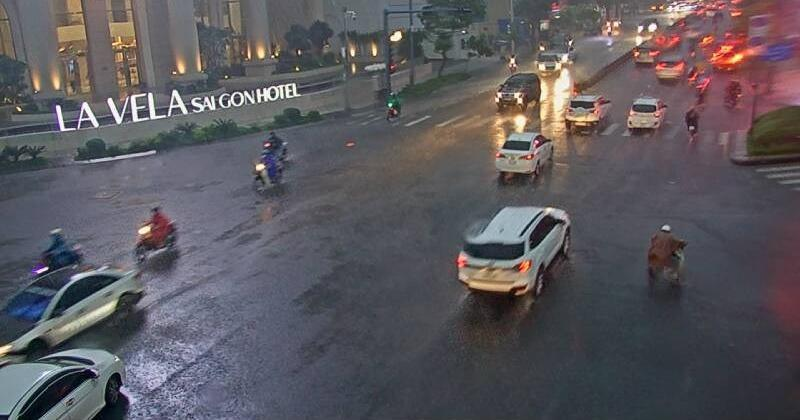xe hoi: (0, 264, 144, 358), (458, 205, 571, 295), (0, 347, 127, 420), (494, 132, 555, 174), (495, 72, 541, 110), (565, 95, 609, 126), (626, 98, 666, 129)
